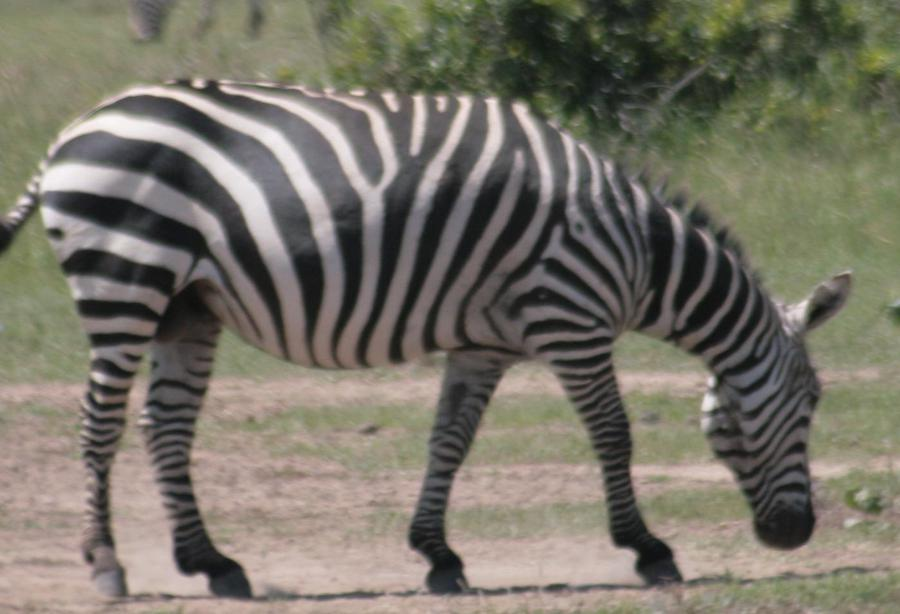zebra_plains: (15, 55, 616, 387)
